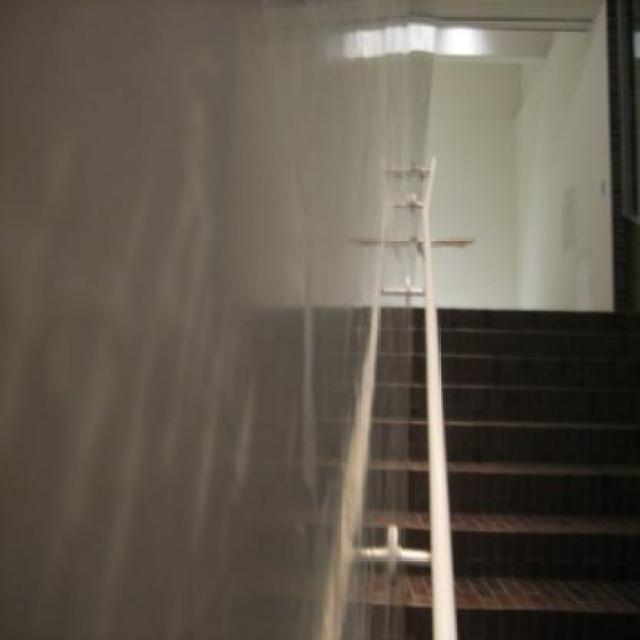stair: (406, 306, 640, 640)
